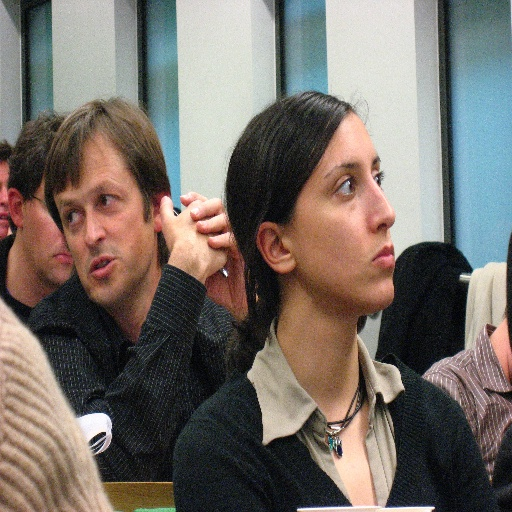hand: (179, 188, 258, 322), (155, 190, 220, 275)
